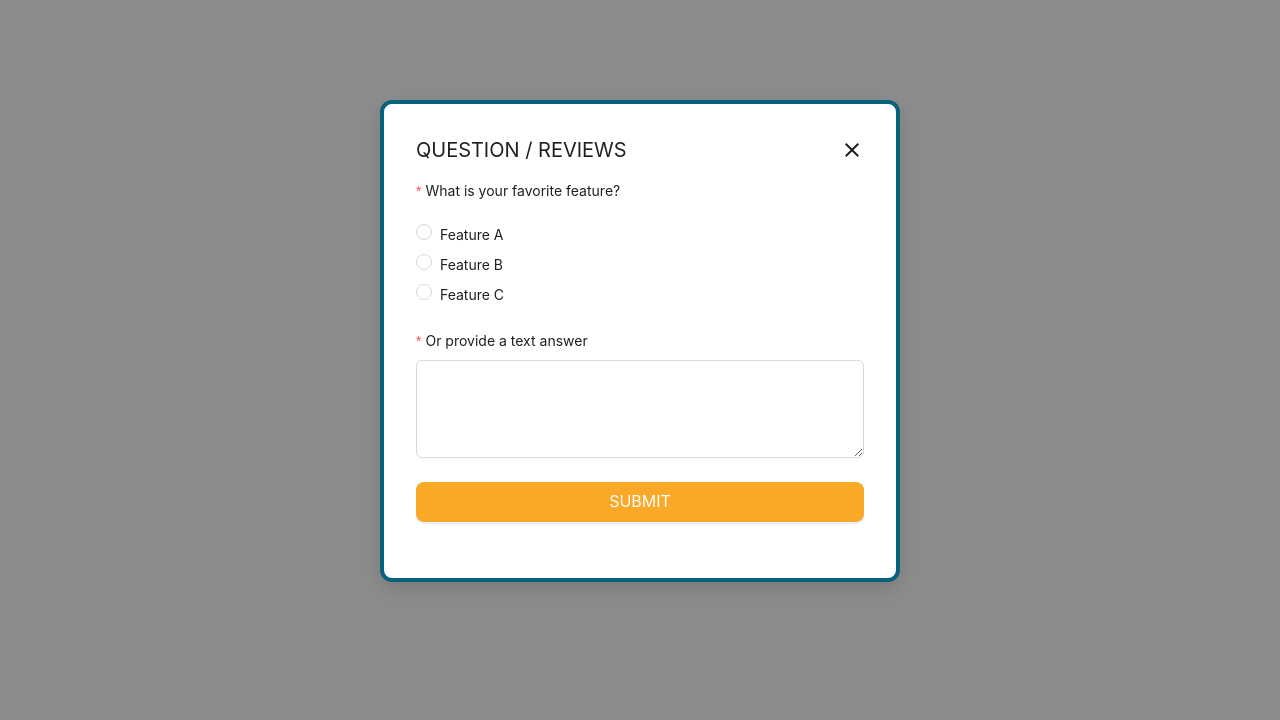
Test: QuestionReview › displays success result after submission
Click the radio button labelled "Feature A" at (464, 225), box [416,210,512,240]
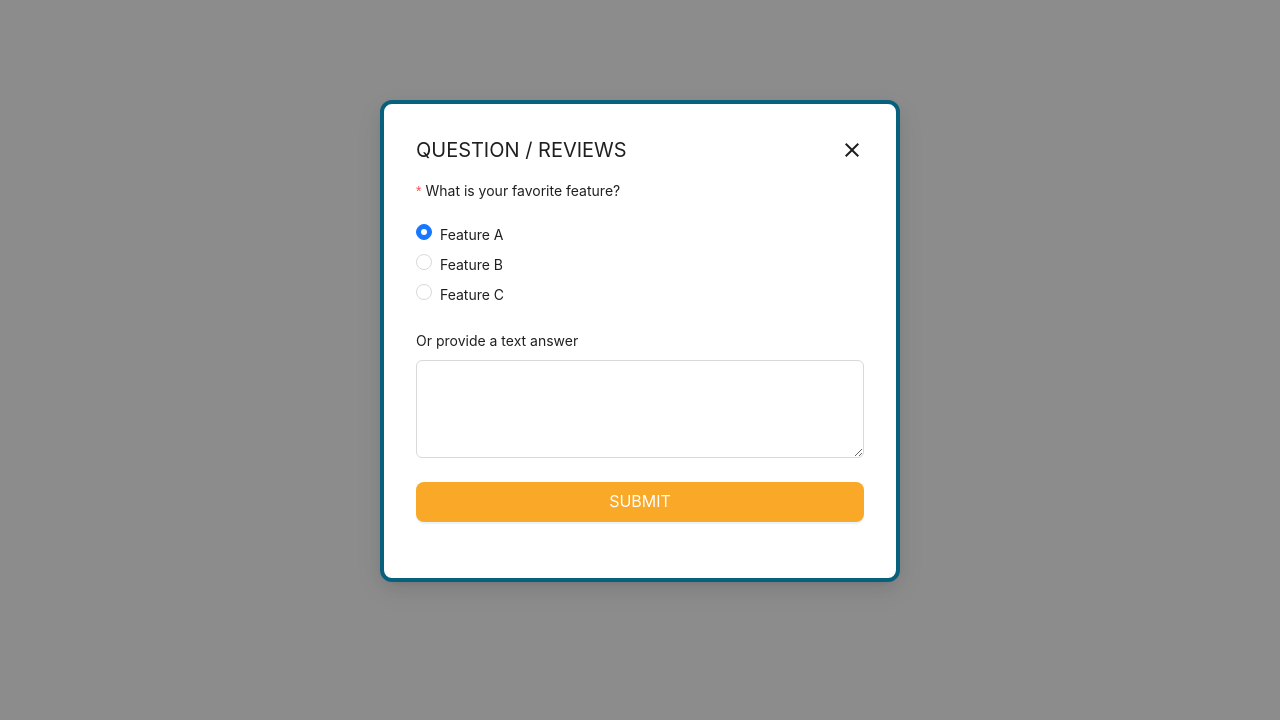
Click the button "SUBMIT" at (640, 502), box [416,482,864,522]
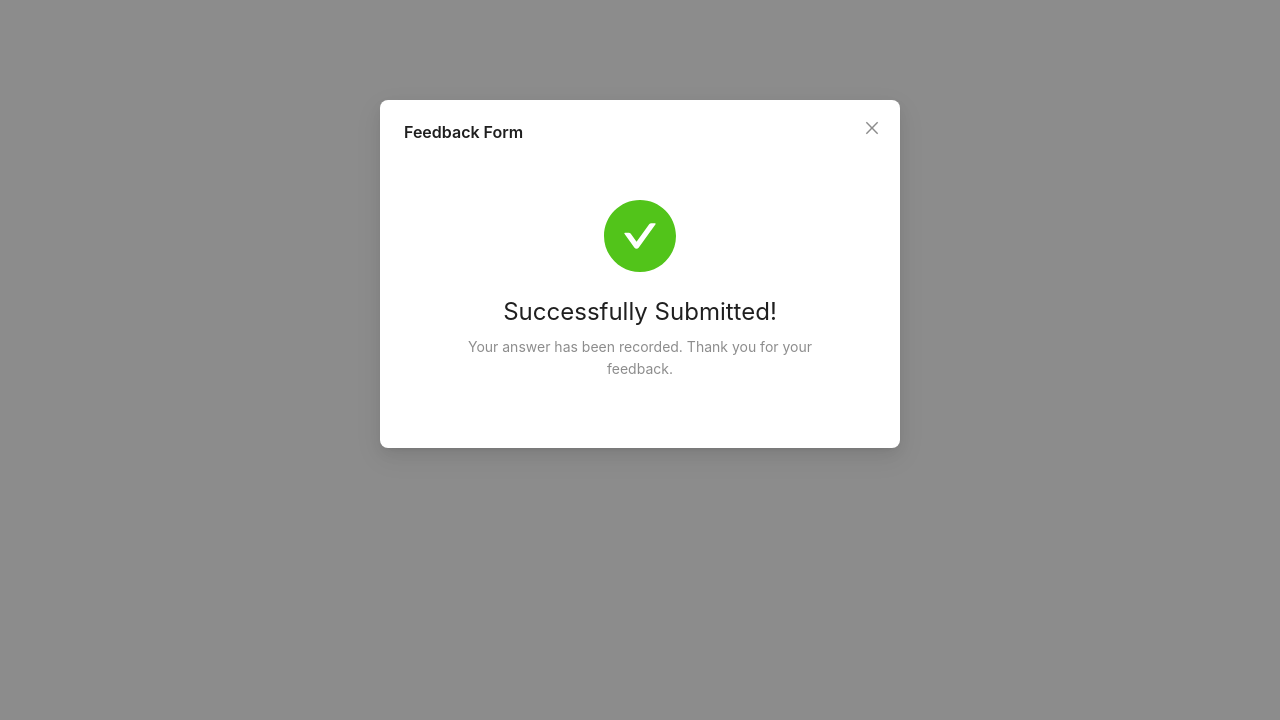
Check: the text "Successfully Submitted!" is shown, box [503,297,777,326]
